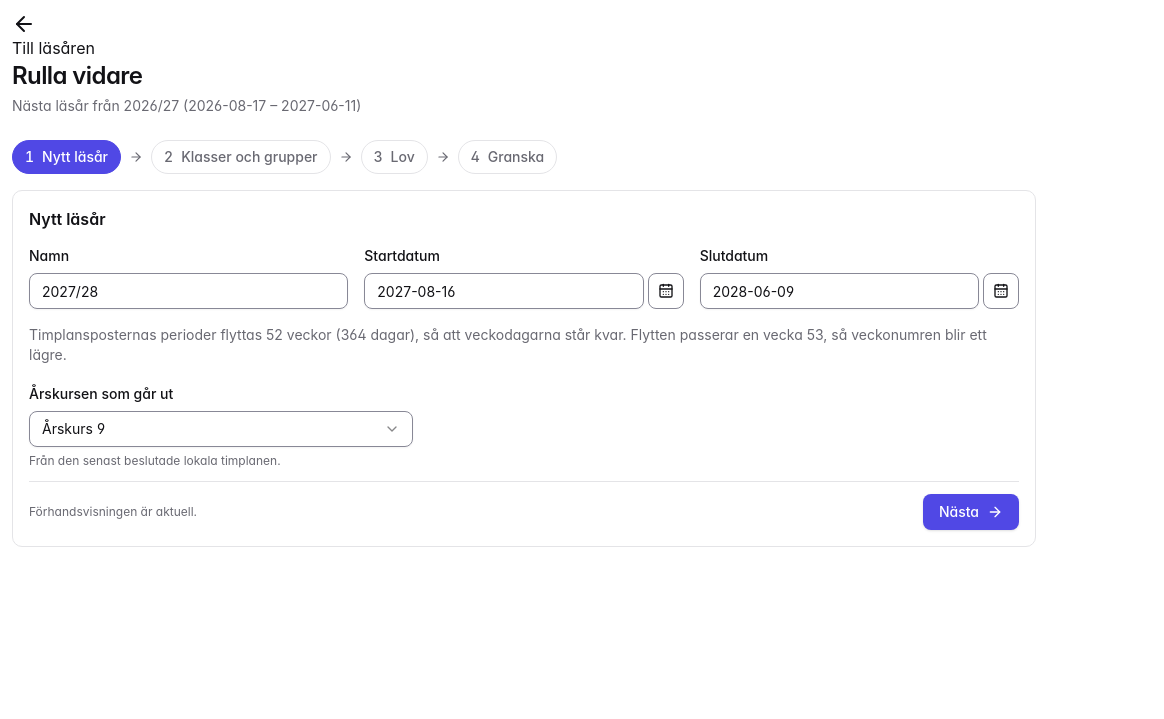
Test: RolloverWizard › says in the review when the new year follows no timplan at all
Click the button "4 Granska".
click(508, 157)  # box [458,140,557,174]
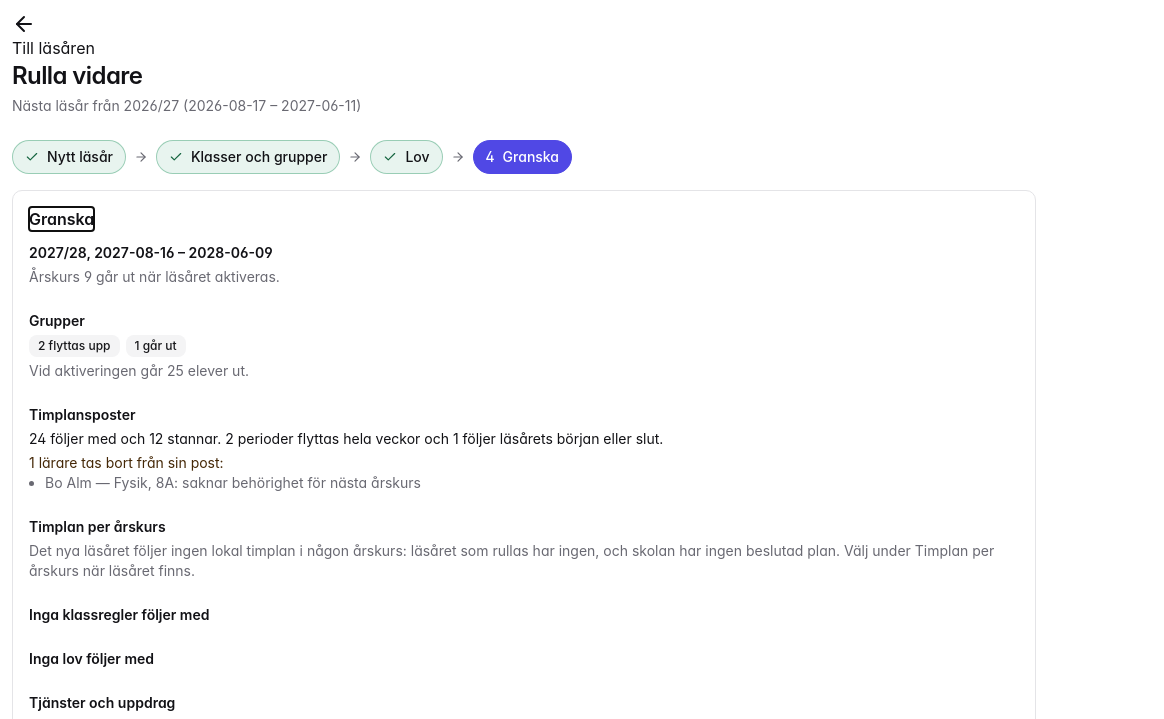
Expected: the text "Det nya läsåret följer ingen lokal timplan i någon årskurs" is shown, [29,542,994,579]
